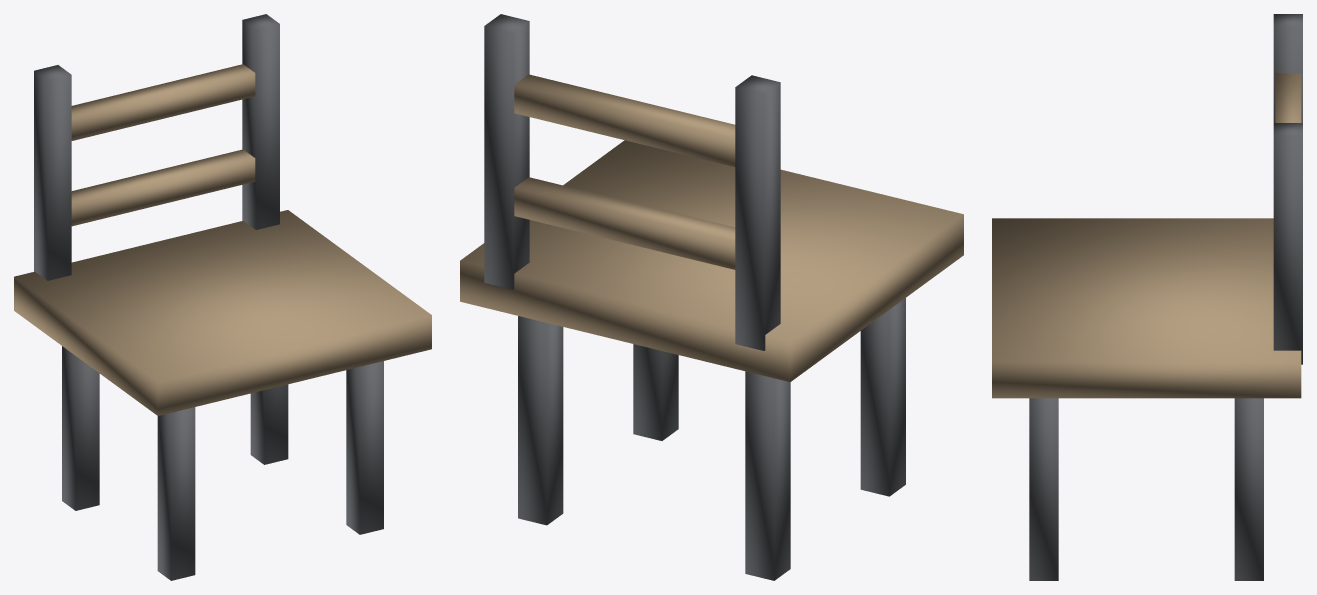
File: dining_chair__squat.glb
3 views of the same model, side by side, from view 1: azimuth 30°, elevation 25°; view 2: azimuth 150°, elevation 25°; view 3: azimuth 270°, elevation 25° (orthographic). The views are drawn at different scales.
Parts seen in each view (by area): view 1: world; view 2: world; view 3: world.
Boxes of the visible parts, x1,y1,x2,y2 form: world: [14, 14, 431, 580]; world: [460, 14, 963, 580]; world: [992, 14, 1302, 580].
Bounding box in the file's own units: 0.5651 × 0.8267 × 0.5168.
